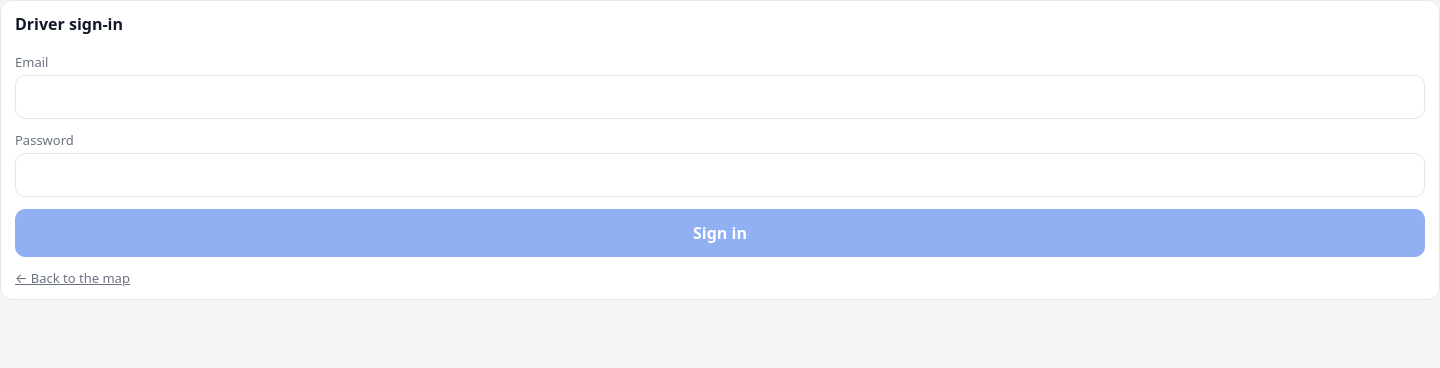
Test: LoginForm › shows a clear message and clears the password after a wrong login
In the field labelled "Email": (720, 97) [15, 75, 1425, 119], type "ram@example.com"
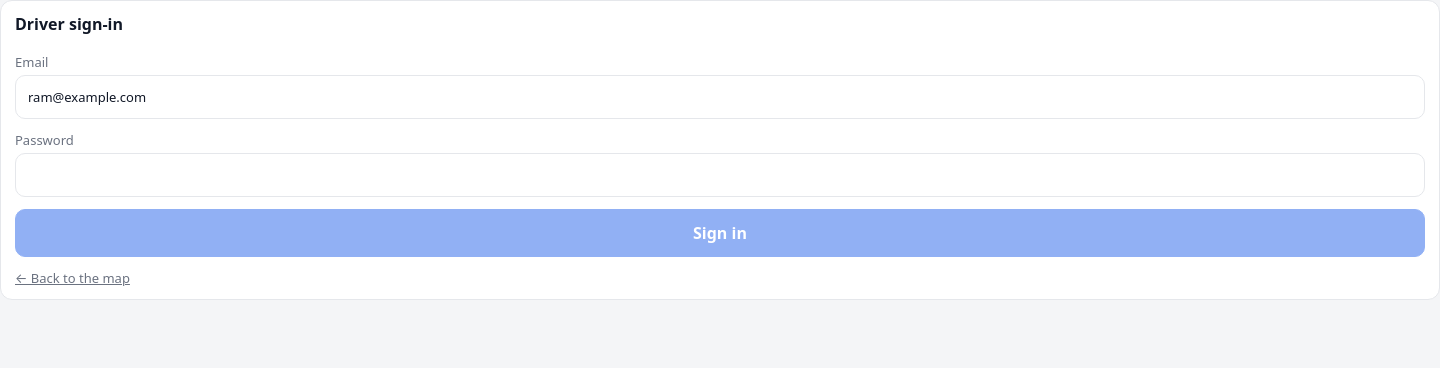
In the password field labelled "Password": (720, 175) [15, 153, 1425, 197], type "nope"
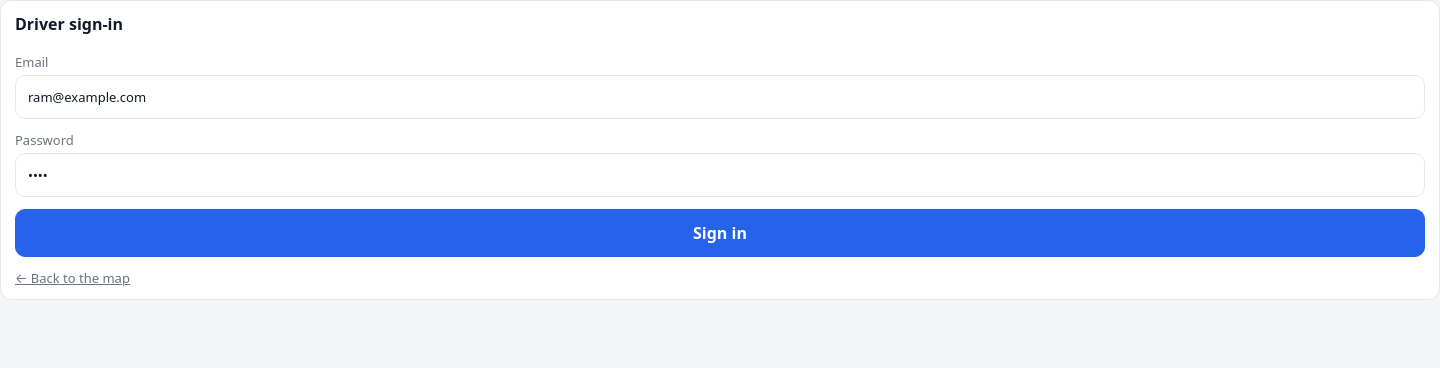
Click the button "Sign in": (720, 233) [15, 209, 1425, 257]
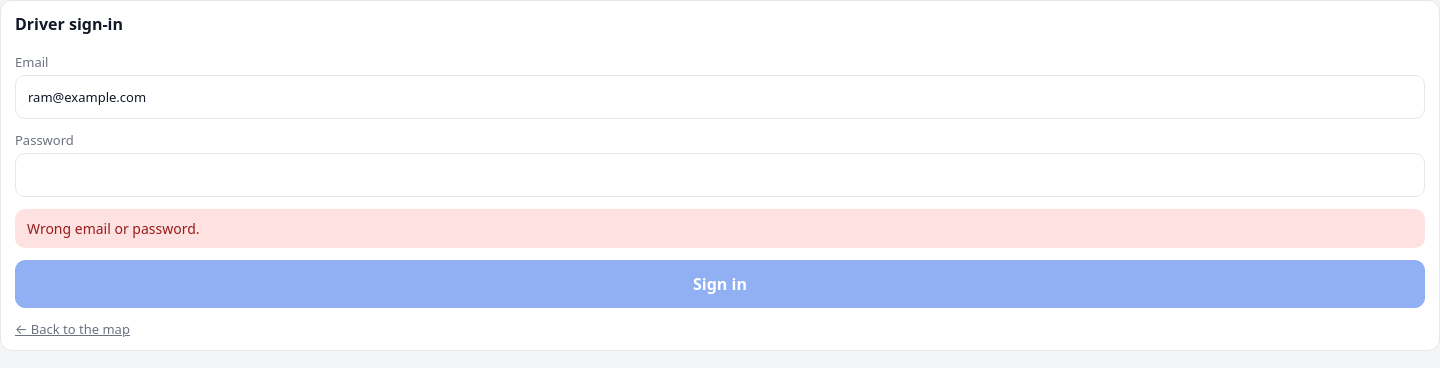
expect the message reads "Wrong email or password.": met, box [27, 219, 200, 238]
expect the password field labelled "Password" is empty: met, box [15, 153, 1425, 197]
